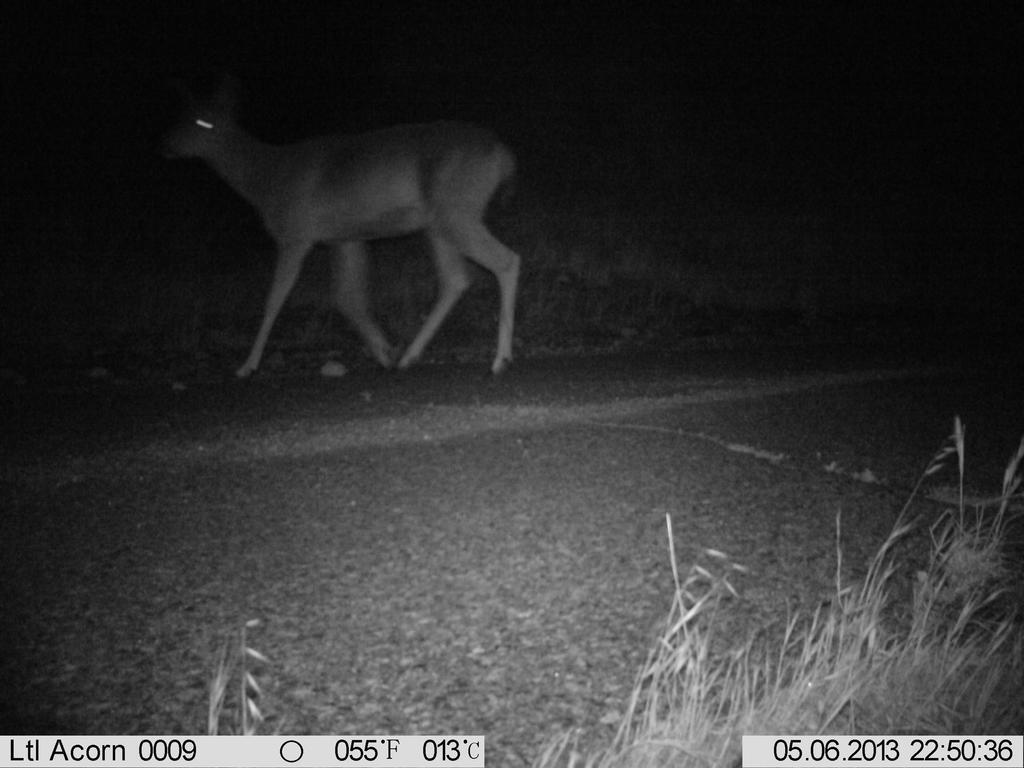deer: (140, 58, 575, 405)
